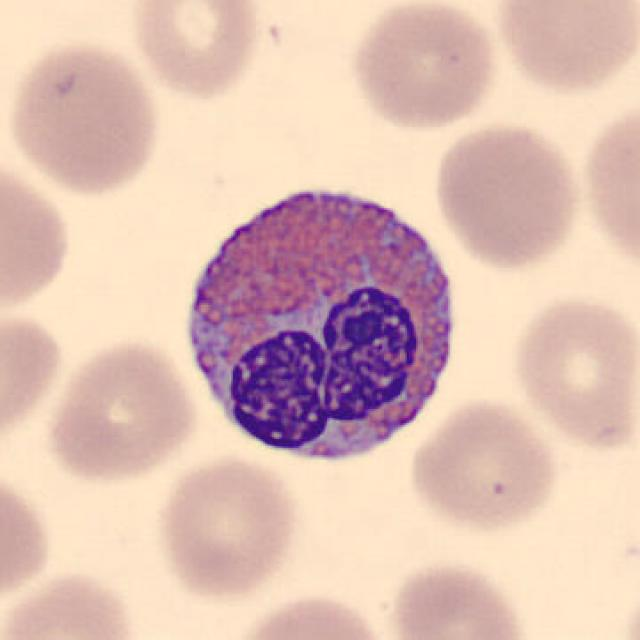Eosinophil: (170, 163, 474, 482)
RBC: (3, 37, 164, 199), (428, 118, 585, 272), (43, 335, 201, 487), (151, 453, 304, 603), (405, 395, 562, 534), (507, 291, 638, 455), (345, 0, 503, 134), (489, 0, 638, 97), (126, 0, 263, 102), (0, 151, 76, 319), (386, 555, 532, 640), (576, 95, 640, 277), (0, 566, 142, 640), (0, 304, 68, 452), (226, 587, 394, 640), (0, 458, 57, 614)
